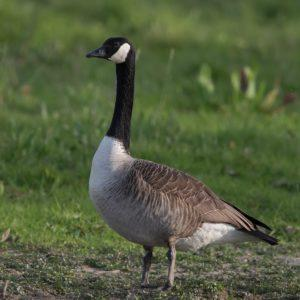Canadian-Goose: (80, 36, 278, 287)
